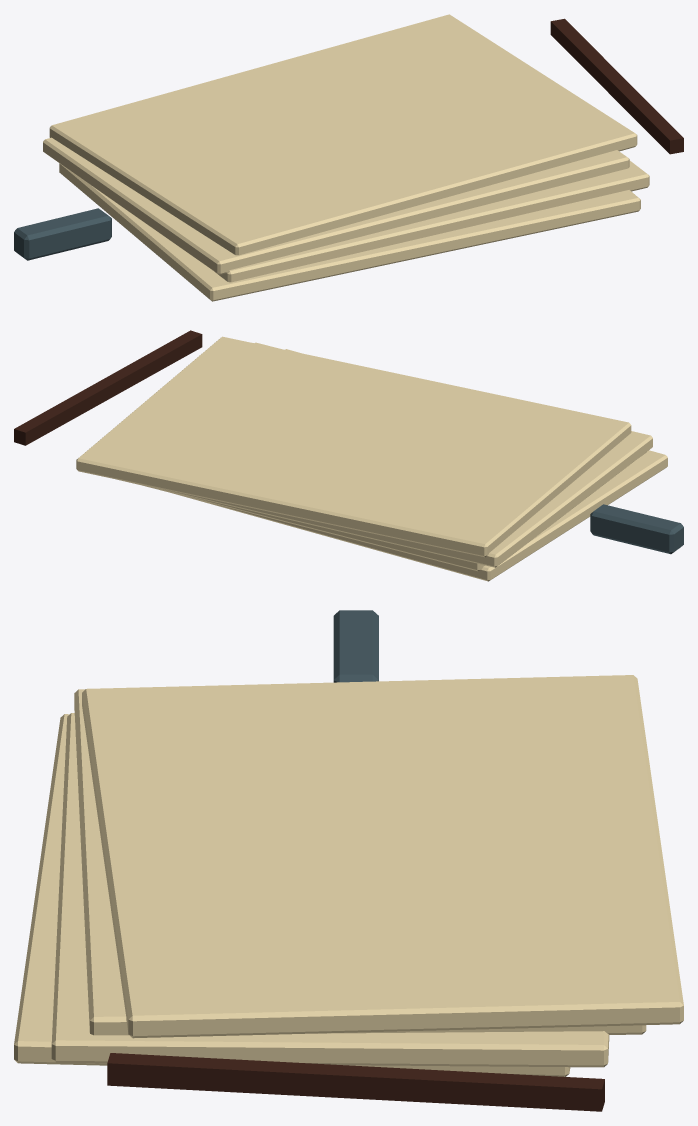
Rendered from residential_accessories_26.glb.
3 renders of one model, top to bottom at view 1: azimuth 30°, elevation 25°; view 2: azimuth 150°, elevation 25°; view 3: azimuth 270°, elevation 25°, orthographic. The views are drawn at different scales.
Parts seen in each view (by area): view 1: Paper_003, Paper, Paper_002, Paper_001, Pen, BlueChalk; view 2: Paper_003, Paper_002, Paper, Pen, BlueChalk, Paper_001; view 3: Paper_003, Paper_001, Pen, Paper, Paper_002, BlueChalk.
Boxes of the visible parts, x1,y1,x2,y2 form: Paper_003: (49,14,637,255); Paper: (59,163,640,301); Paper_002: (43,137,629,274); Paper_001: (215,160,649,282); Pen: (550,18,683,154); BlueChalk: (14,208,111,260); Paper_003: (76,336,631,557); Paper_002: (119,343,652,567); Paper: (174,349,667,581); Pen: (14,330,202,445); BlueChalk: (590,504,683,554); Paper_001: (147,342,646,571); Paper_003: (82,675,683,1038); Paper_001: (51,713,609,1067); Pen: (107,1053,604,1111); Paper: (14,714,570,1076); Paper_002: (74,689,646,1035); BlueChalk: (333,610,378,682).
Bounding box in the file's own units: 0.566 × 0.039 × 0.3251.
